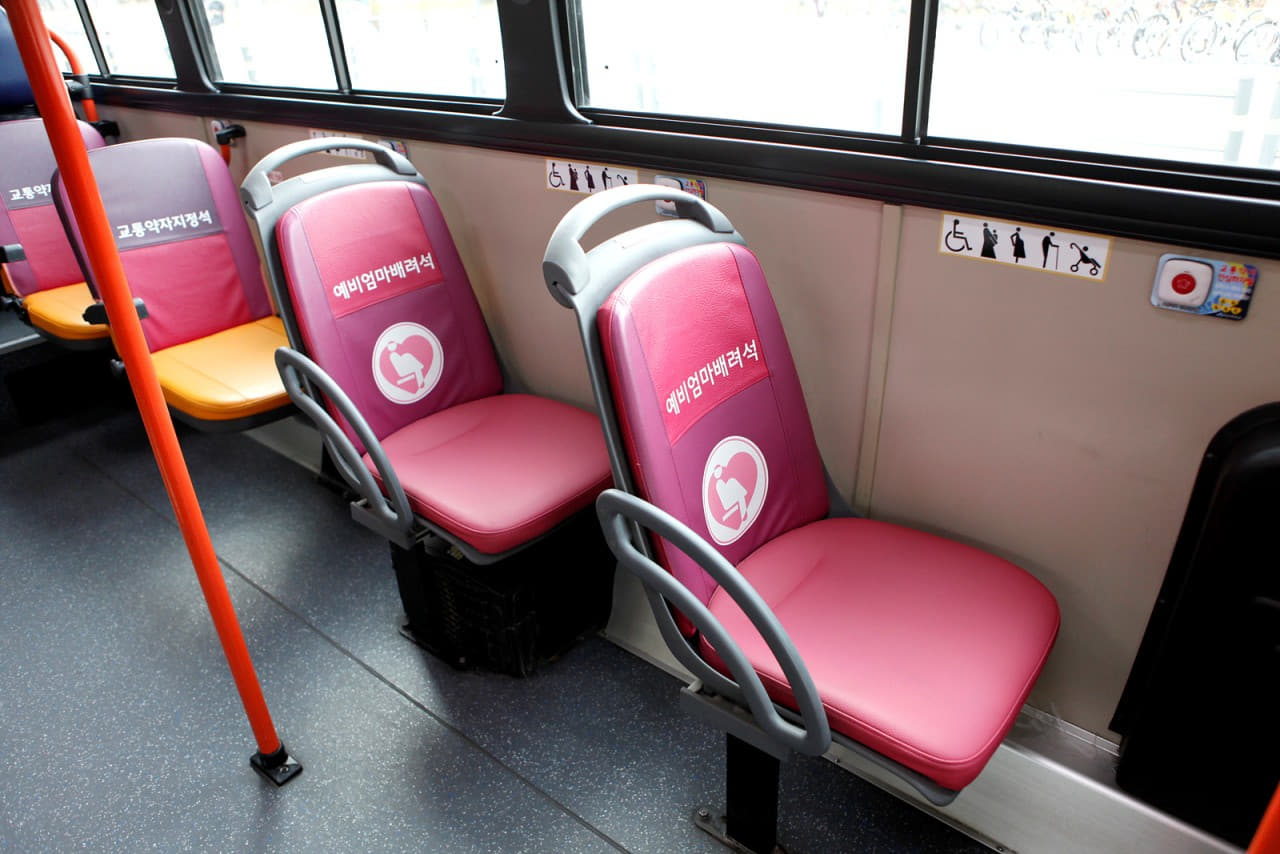seat: (586, 194, 1061, 791)
